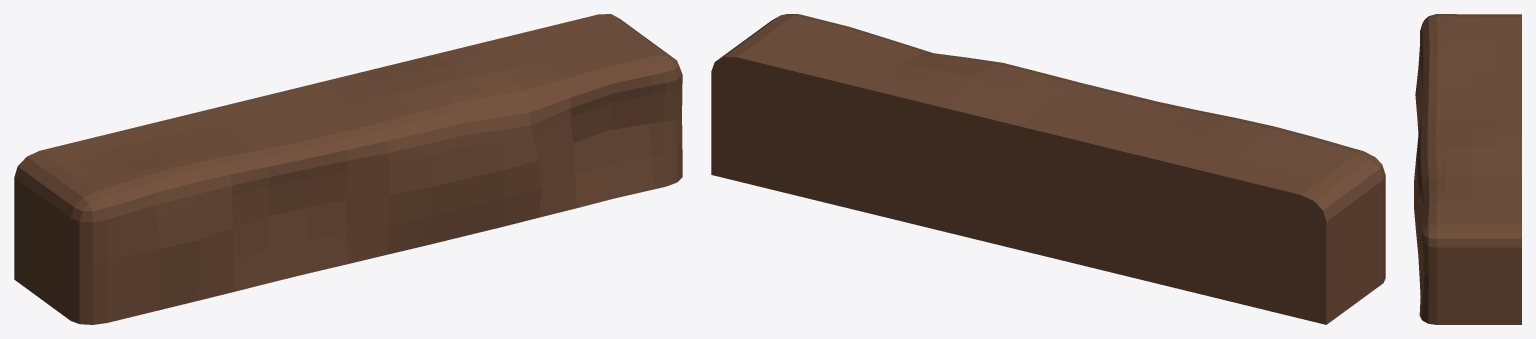
Rendered from Dirt_platform03.fbx.
3 views of the same model, side by side, from view 1: azimuth 30°, elevation 25°; view 2: azimuth 150°, elevation 25°; view 3: azimuth 270°, elevation 25° (orthographic). The views are drawn at different scales.
Parts seen in each view (by area): view 1: Cube.002; view 2: Cube.002; view 3: Cube.002.
Boxes of the visible parts, x1,y1,x2,y2 form: Cube.002: [14, 14, 682, 324]; Cube.002: [711, 14, 1385, 324]; Cube.002: [1414, 14, 1521, 324].
Size of the model in its own units: 1040 by 207 by 211.
